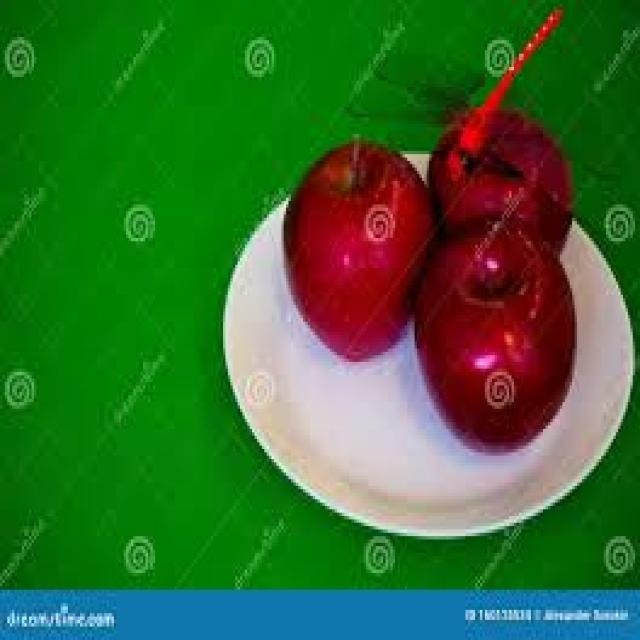agrume: (396, 213, 584, 463), (264, 113, 436, 378), (395, 54, 570, 276)
